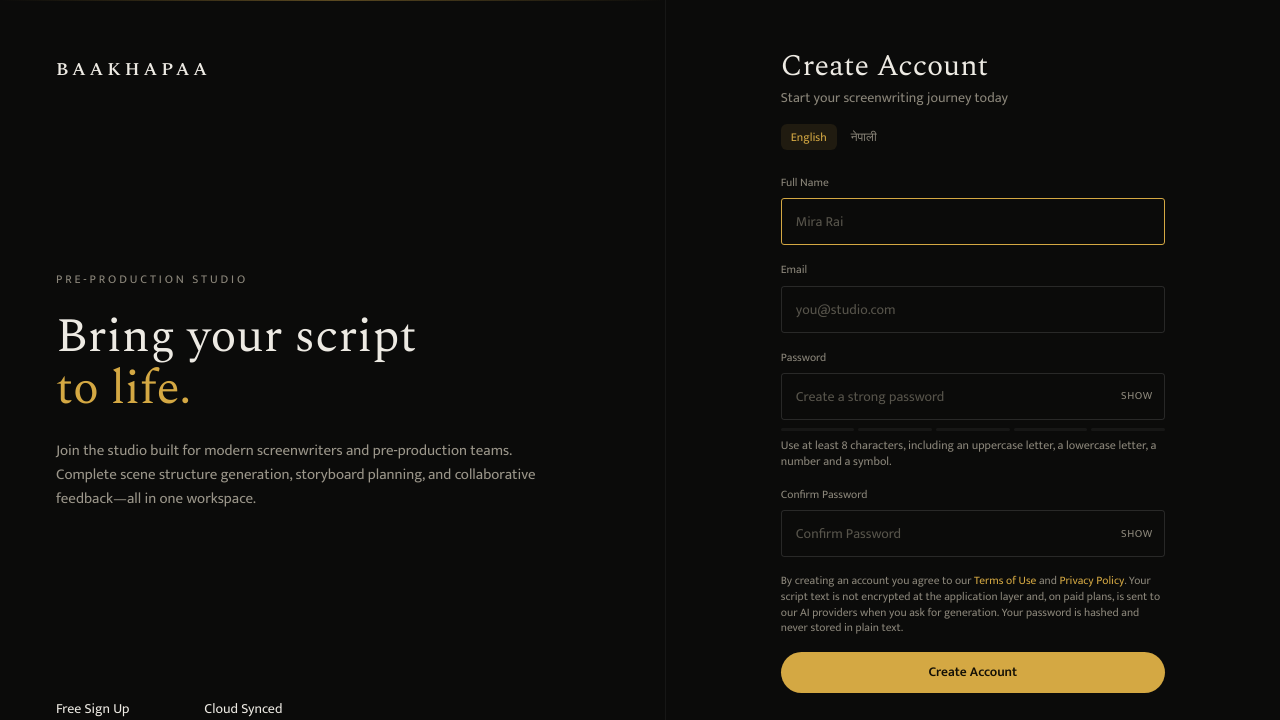
Scenario: submitting an incomplete sign-up explains what is missing
Type "Mira" into the field labelled "Full Name".
click(973, 222); type("Mira")  # box [781,198,1165,245]
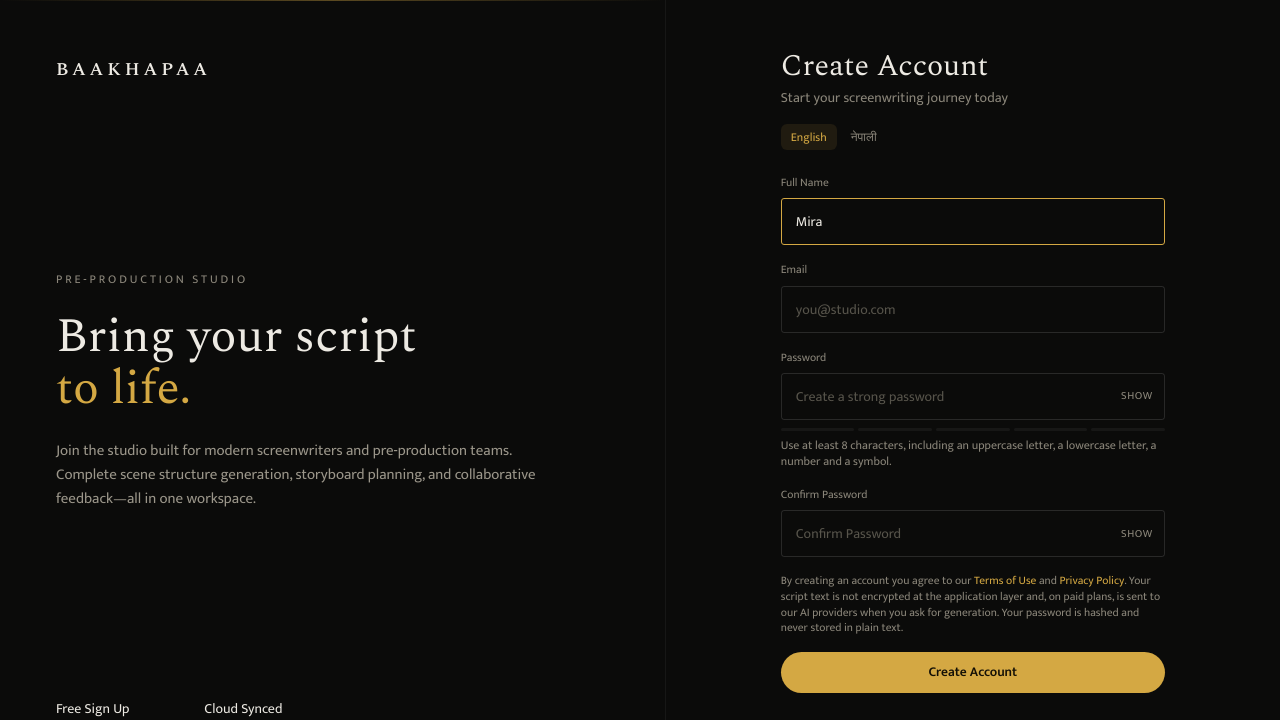
Type "a@b.co" into the field labelled "Email".
click(973, 309); type("a@b.co")  # box [781,286,1165,332]
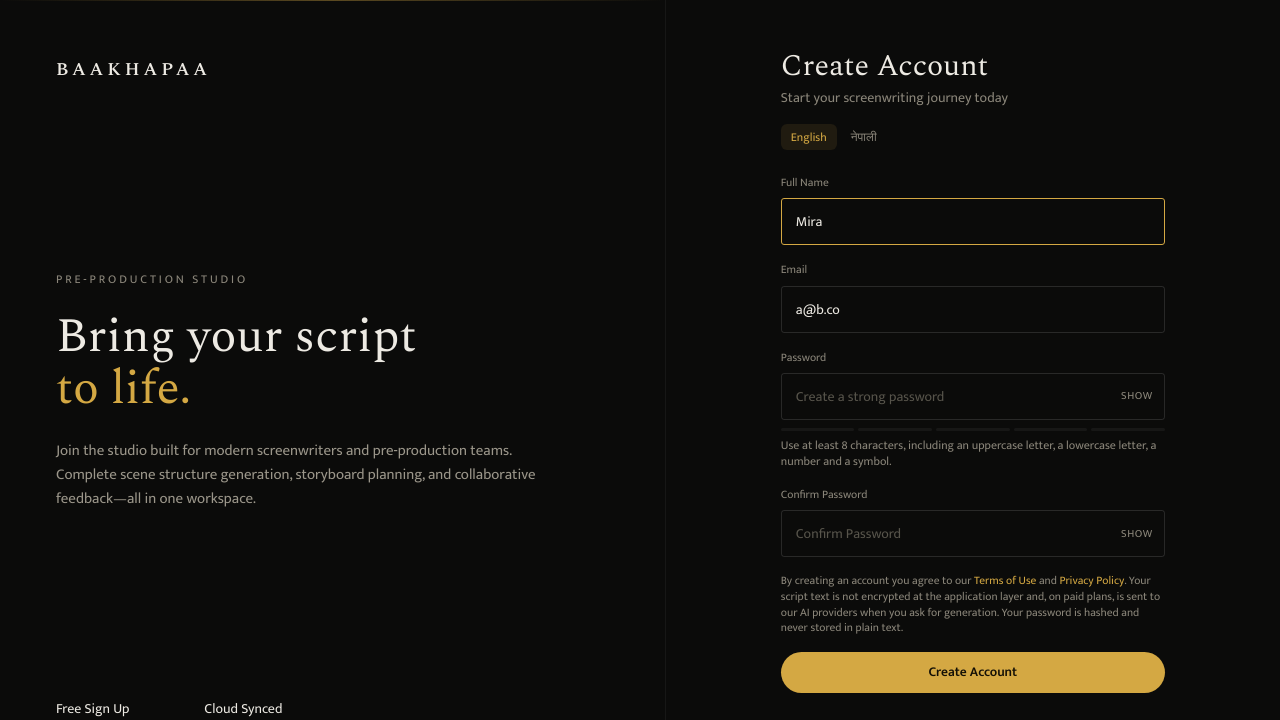
Type "weak" into the password field labelled "Password".
click(973, 396); type("weak")  # box [781,373,1165,420]
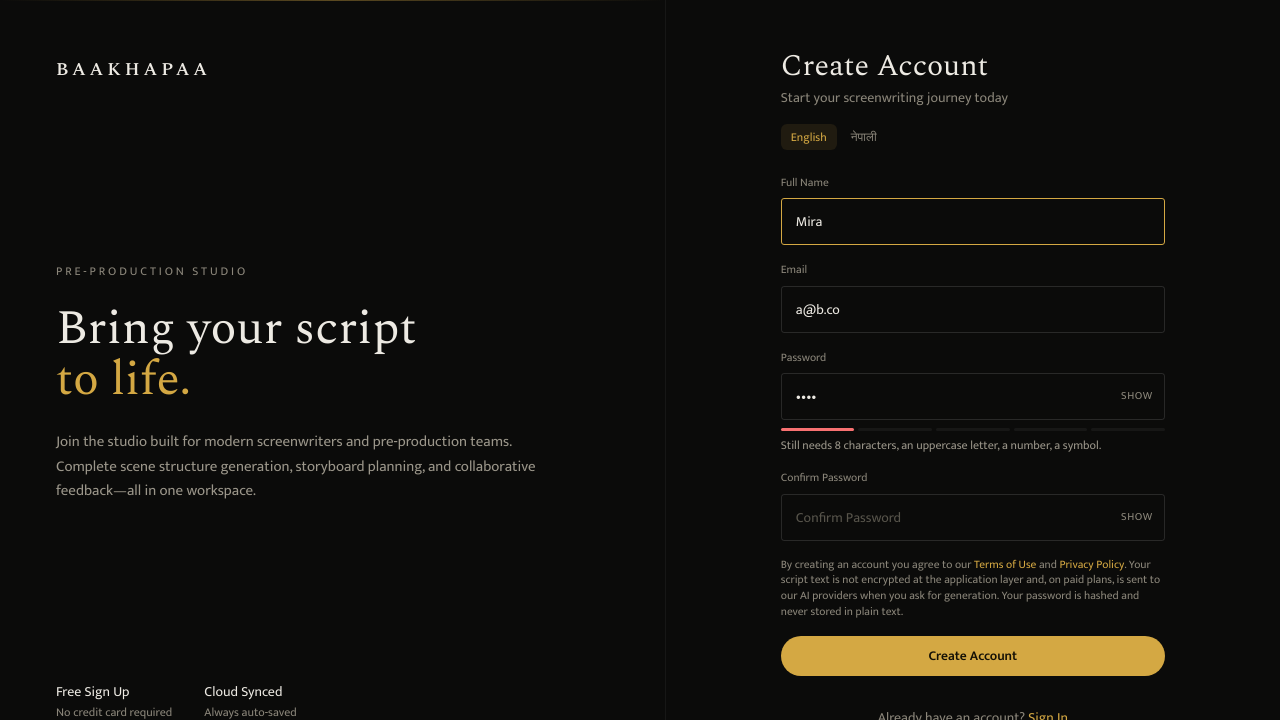
Type "weak" into the password field labelled "Confirm Password".
click(973, 517); type("weak")  # box [781,494,1165,540]
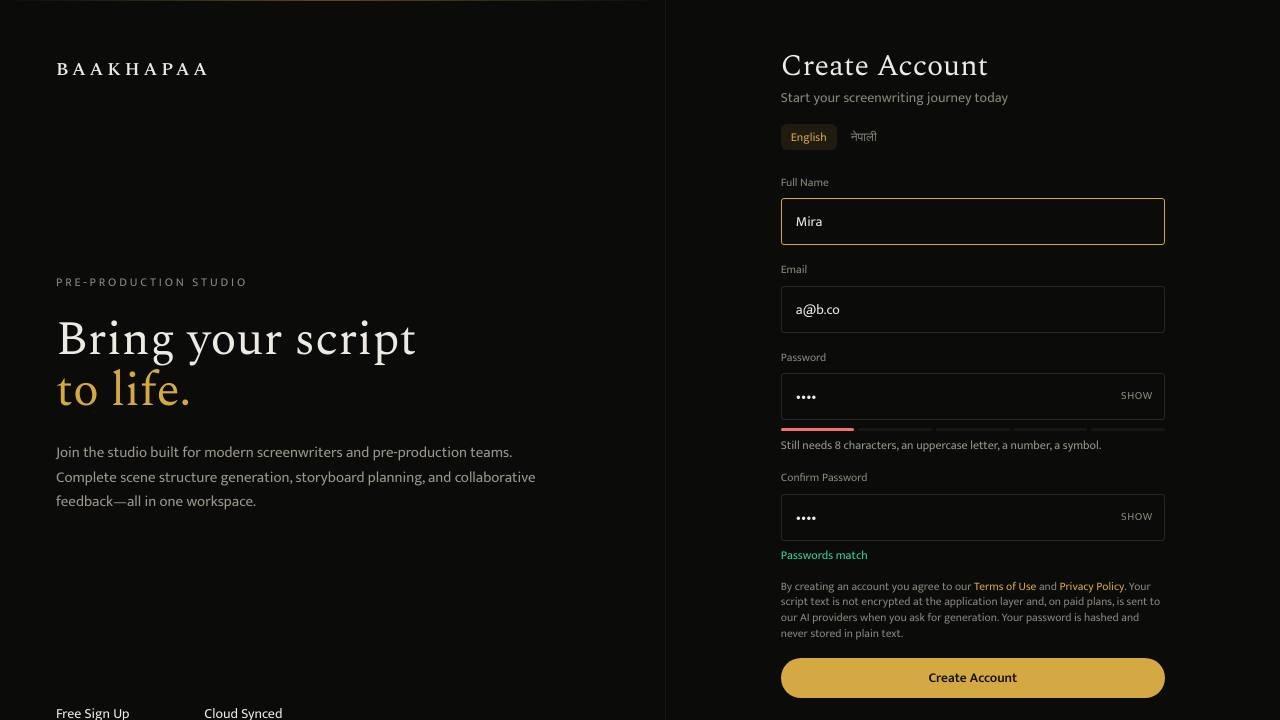
Click the button "Create Account".
click(973, 678)  # box [781,658,1165,698]
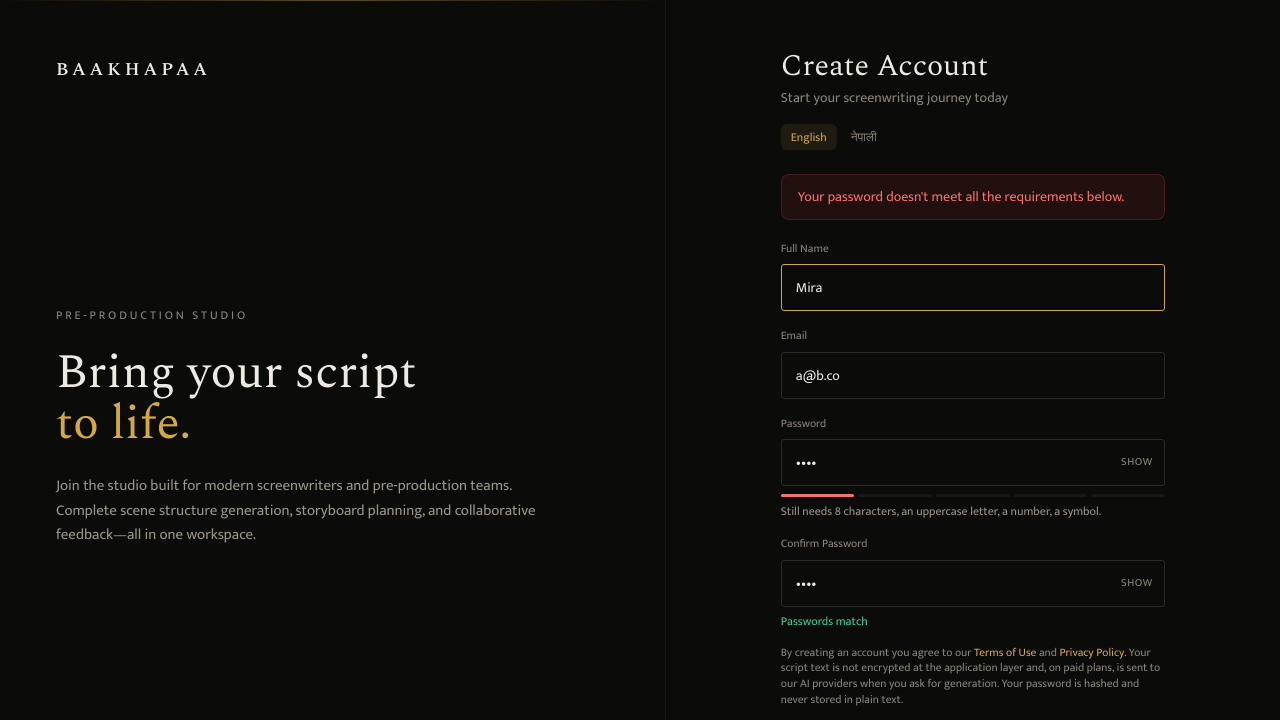
Expected: the message shows "requirements", [798,185,1124,208]
